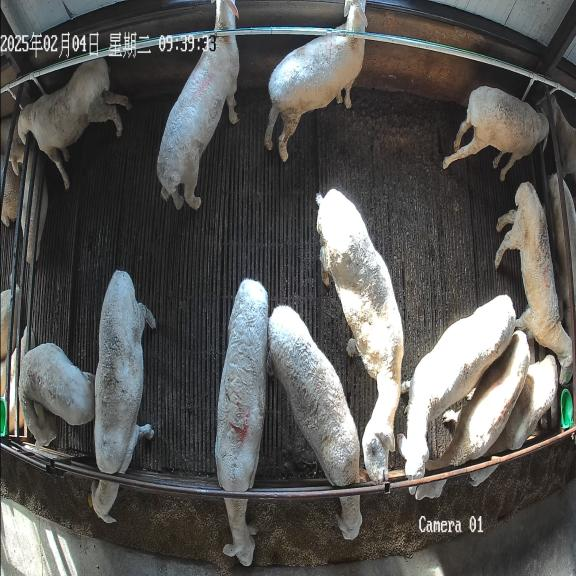drinking: (18, 59, 132, 189), (443, 86, 549, 181)
eating: (267, 306, 366, 540), (409, 332, 530, 500), (92, 270, 156, 523), (215, 278, 268, 566), (466, 355, 559, 487)
stand: (316, 189, 403, 482), (397, 295, 515, 479), (157, 0, 239, 209), (265, 0, 367, 161), (495, 182, 573, 384), (19, 343, 95, 449)
